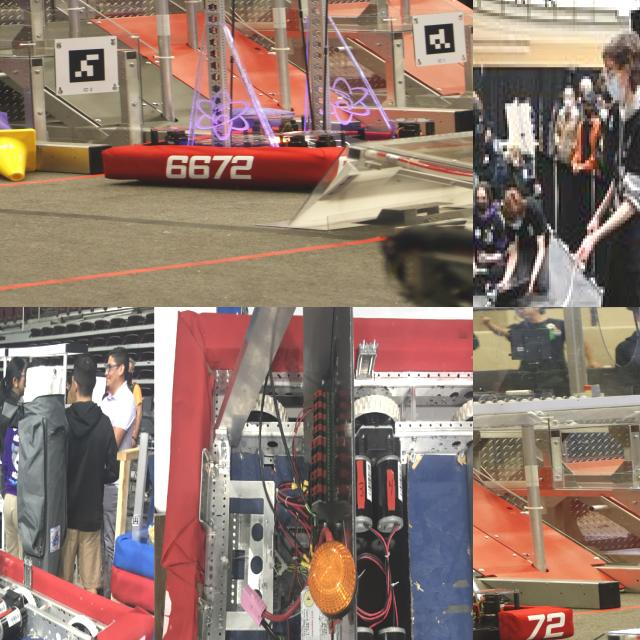FRC-Robots: (157, 307, 473, 640), (97, 0, 386, 202), (0, 307, 154, 640), (473, 313, 601, 640)
